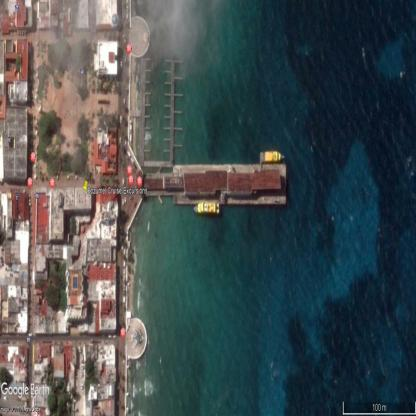ship: (192, 203, 220, 213), (260, 151, 284, 162)
